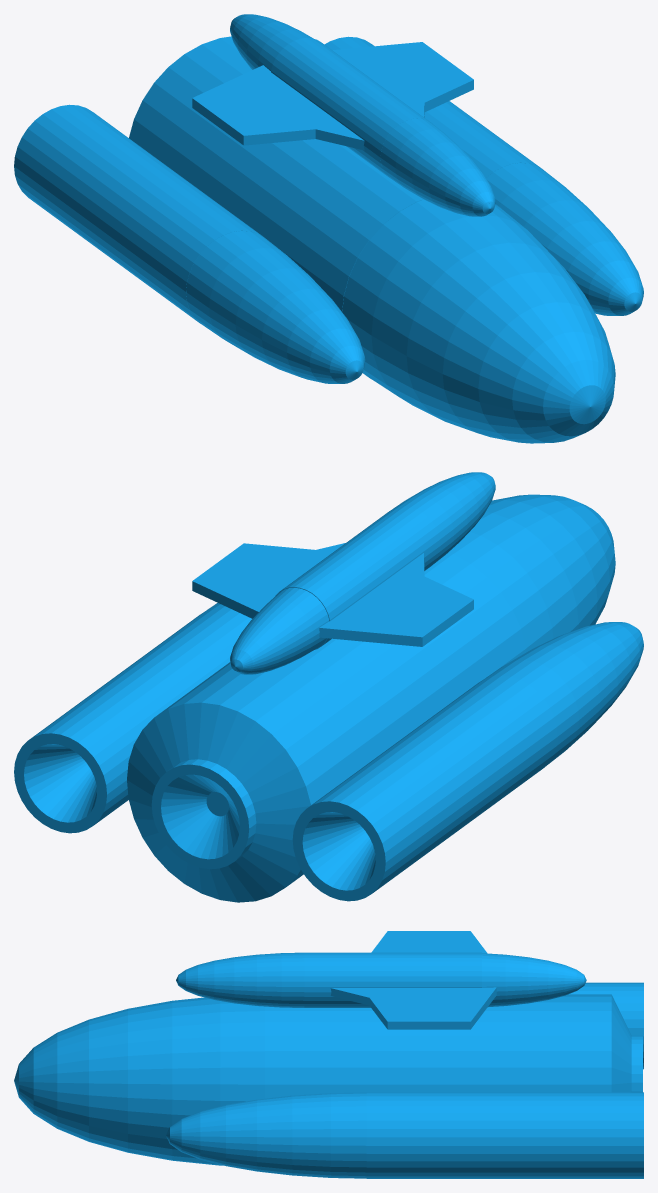
File: DragonIII_Ariane5.fbx
3 views of the same model, one above another, from view 1: azimuth 30°, elevation 25°; view 2: azimuth 150°, elevation 25°; view 3: azimuth 270°, elevation 25° (orthographic). The views are drawn at different scales.
Visible parts, largest first — view 1: Cylinder; view 2: Cylinder; view 3: Cylinder.
Boxes of the visible parts, <box> form: Cylinder: <box>14,14,643,443</box>; Cylinder: <box>14,472,643,902</box>; Cylinder: <box>14,931,643,1178</box>.
Size of the model in its own units: 107 by 69.52 by 195.
